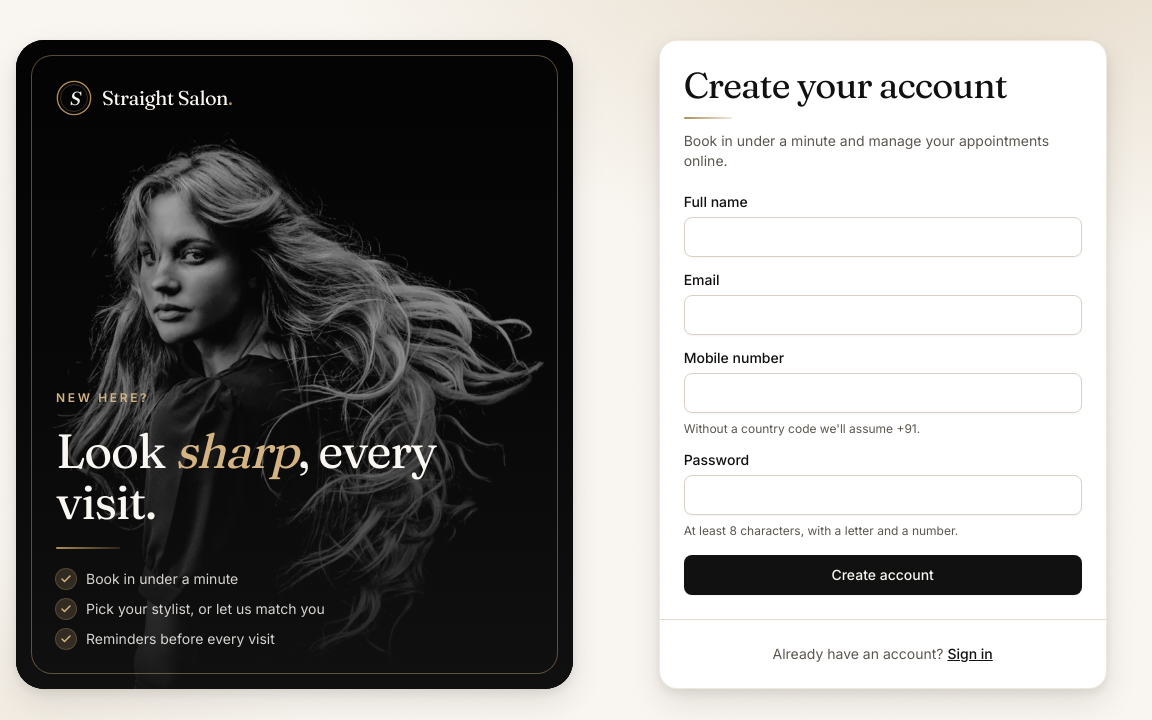
Test: register page (API-001, FR-001) › shows the password policy inline
This screenshot has width=1152, height=720.
Type "Ananya Rao" into the field labelled "Full name" at (883,237), box [684,217,1082,257]
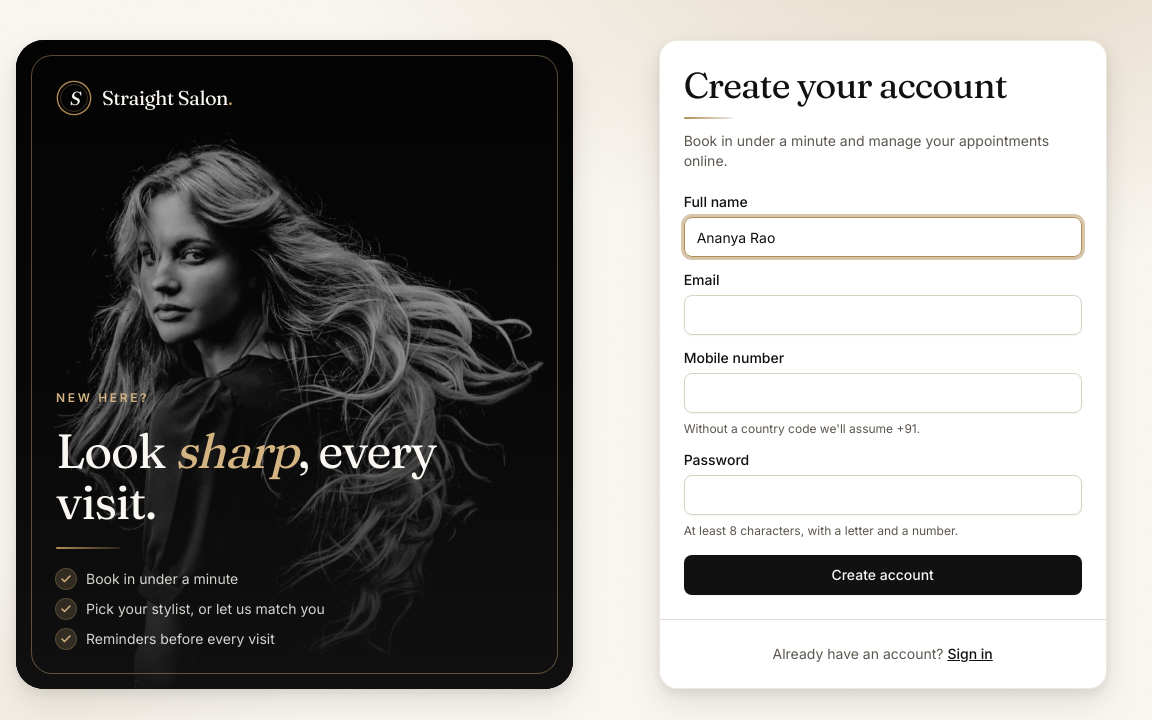
Type "Ananya@Example.com" into the field labelled "Email" at (883,315), box [684,295,1082,335]
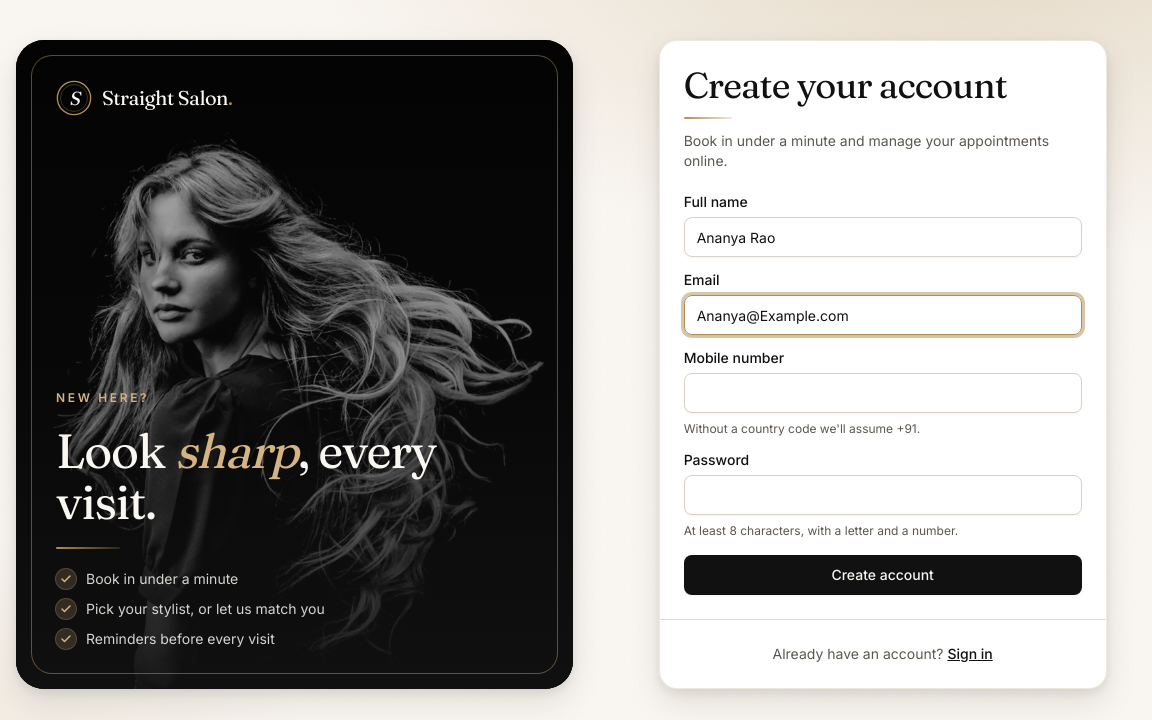
Type "98765 43212" into the field labelled "Mobile number" at (883,393), box [684,373,1082,413]
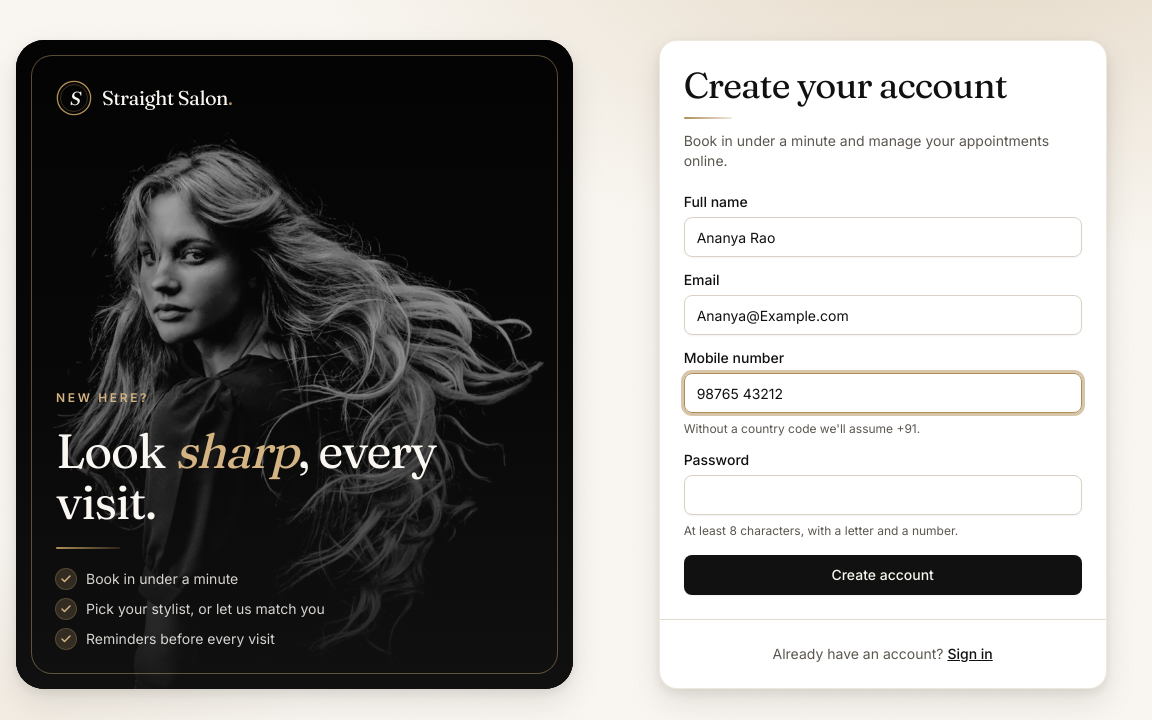
Type "password" into the password field labelled "Password" at (883,495), box [684,475,1082,515]
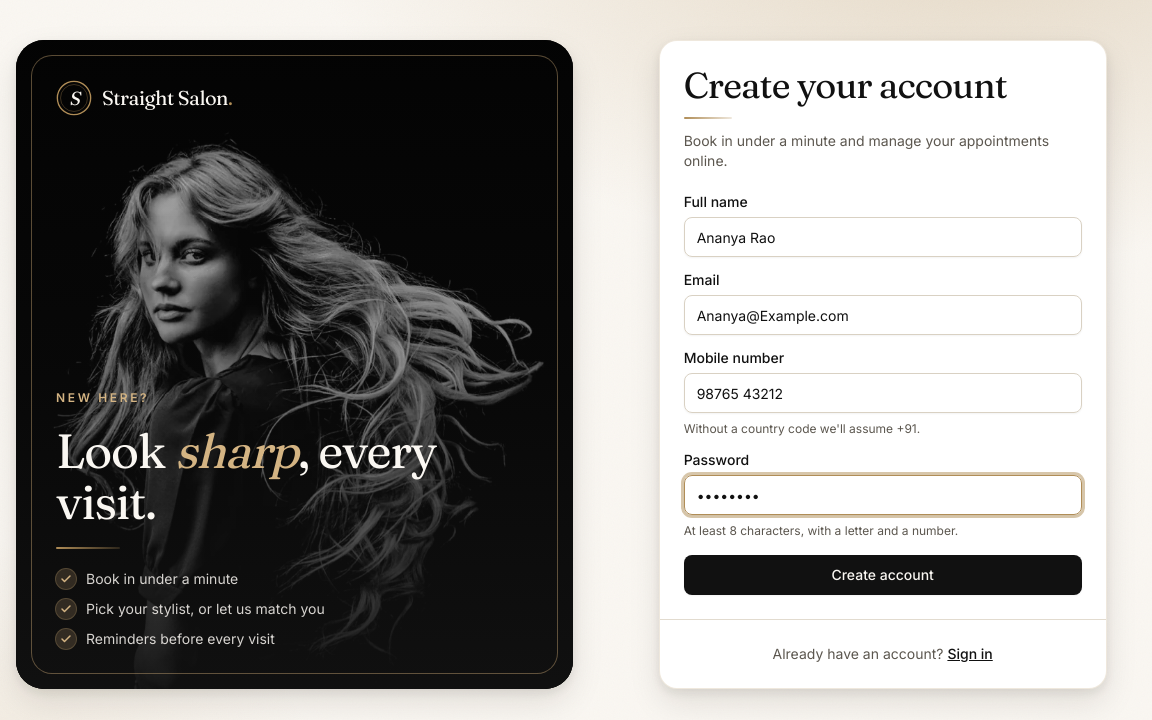
Click the button "Create account" at (883,575), box [684,555,1082,595]
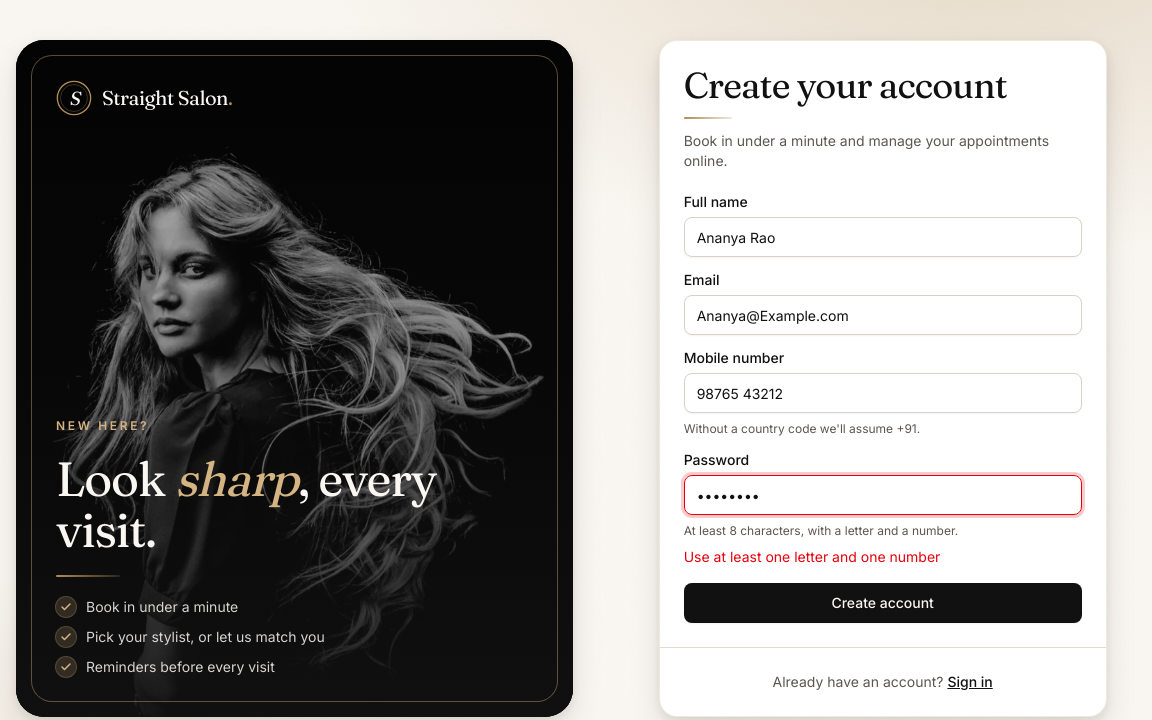
Now the text "Use at least one letter and one number" is shown, box [684,548,940,565]
